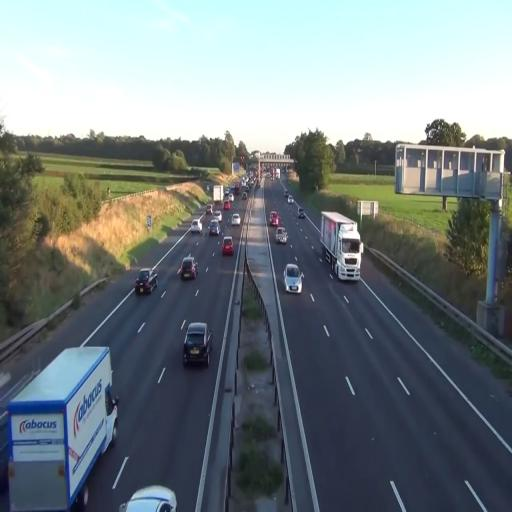vehicle: (3, 343, 119, 508), (320, 211, 362, 283), (120, 484, 177, 512), (183, 321, 211, 367), (283, 262, 303, 293), (268, 217, 288, 244), (178, 255, 198, 281), (135, 270, 155, 296), (146, 266, 159, 293), (274, 225, 288, 245), (208, 218, 221, 238), (222, 236, 234, 256)
